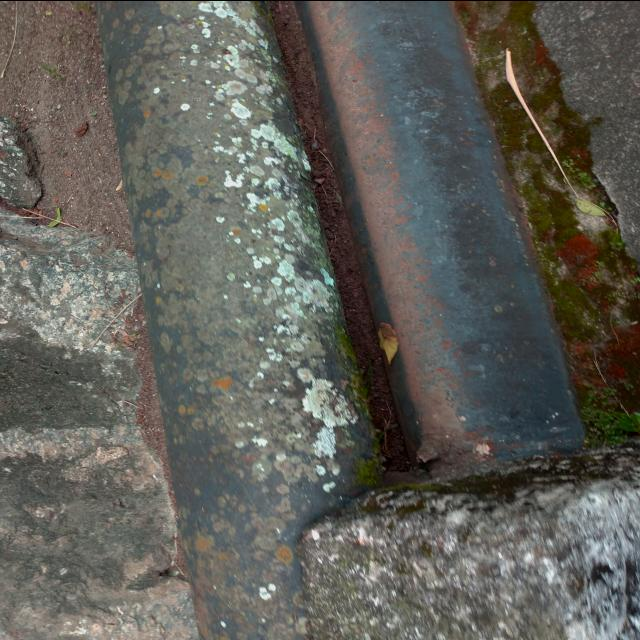gas: (92, 0, 392, 527), (296, 2, 582, 463)
